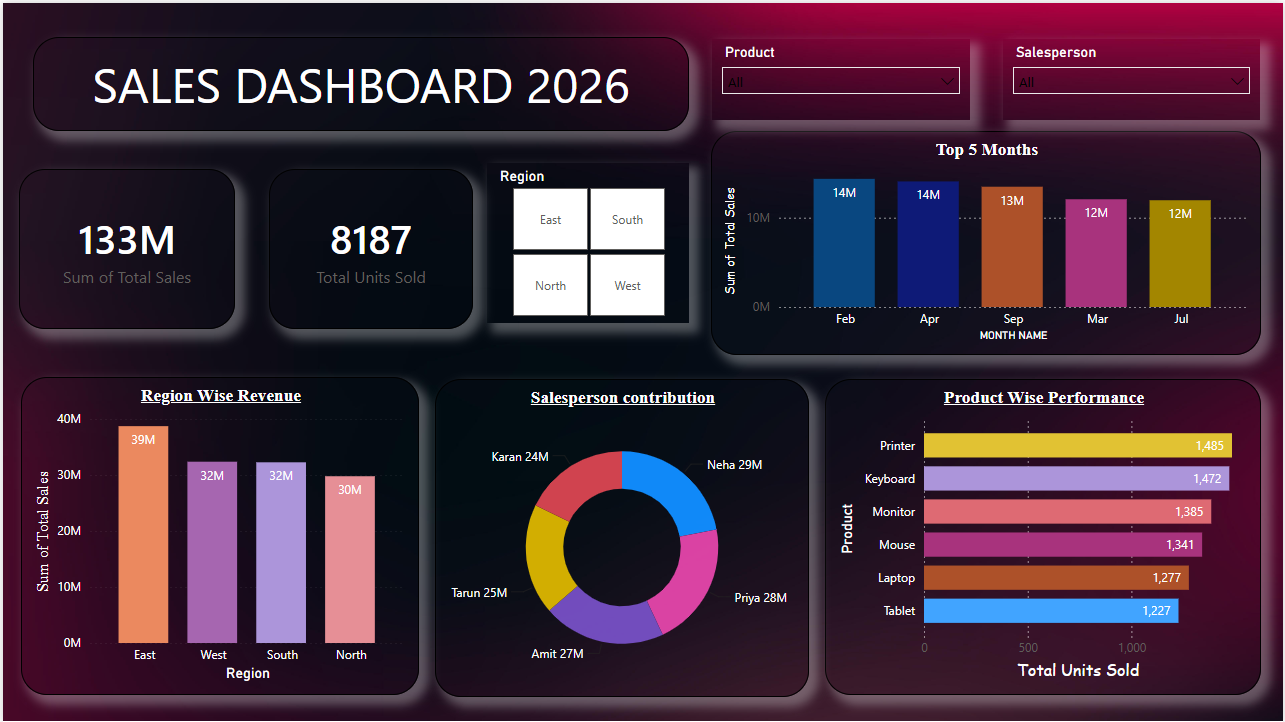

This screenshot's page, from the dashboard's own definition file:
{"tool":"powerbi","page":{"name":"Sales Dashboard 2026","canvas":[1280,720],"ordinal":0},"visuals":[{"type":"textbox","box":[30,34,656,94],"z":0},{"type":"cardVisual","fields":{"Data":["Sum(Sheet1 (2).Units Sold)"]},"box":[266,166,204,160],"z":1000},{"type":"cardVisual","fields":{"Data":["Sum(Sheet1 (2).Total Sales)"]},"box":[16,166,216,160],"z":2000},{"type":"clusteredBarChart","title":"Product Wise Performance","fields":{"Y":["Sum(Sheet1 (2).Units Sold)"],"Category":["Sheet1 (2).Product"]},"box":[822,376,436,316],"z":3000},{"type":"columnChart","title":"Region Wise Revenue","fields":{"Category":["Sheet1 (2).Region"],"Y":["Sum(Sheet1 (2).Total Sales)"]},"box":[18,374,398,318],"z":4000},{"type":"donutChart","title":"Salesperson contribution","fields":{"Category":["Sheet1 (2).Salesperson"],"Y":["Sum(Sheet1 (2).Total Sales)"]},"box":[432,376,374,318],"z":5000},{"type":"lineStackedColumnComboChart","title":"Top 5 Months","fields":{"Y":["Sum(Sheet1 (2).Total Sales)"],"Category":["Sheet1 (2).MONTH NAME"]},"box":[708,128,550,224],"z":6000},{"type":"slicer","fields":{"Values":["Sheet1 (2).Product"]},"box":[708.6,35.7,258.6,81.4],"z":7000},{"type":"slicer","fields":{"Values":["Sheet1 (2).Region"]},"box":[484,160,202,160],"z":8000},{"type":"slicer","fields":{"Values":["Sheet1 (2).Salesperson"]},"box":[1000,35.7,257.1,81.4],"z":8001}]}

Visuals, with their boxes in screenshot pixels (x1, y1, x2, y2), scaled from the page's 1280x720 canvas onto the 1285x722 screenshot:
textbox: (30, 34, 689, 128)
cardVisual - Sum(Sheet1 (2).Units Sold): (267, 166, 472, 327)
cardVisual - Sum(Sheet1 (2).Total Sales): (16, 166, 233, 327)
"Product Wise Performance" clusteredBarChart: (825, 377, 1263, 694)
"Region Wise Revenue" columnChart: (18, 375, 418, 694)
"Salesperson contribution" donutChart: (434, 377, 809, 696)
"Top 5 Months" lineStackedColumnComboChart: (711, 128, 1263, 353)
slicer - Sheet1 (2).Product: (711, 36, 971, 117)
slicer - Sheet1 (2).Region: (486, 160, 689, 321)
slicer - Sheet1 (2).Salesperson: (1004, 36, 1262, 117)
